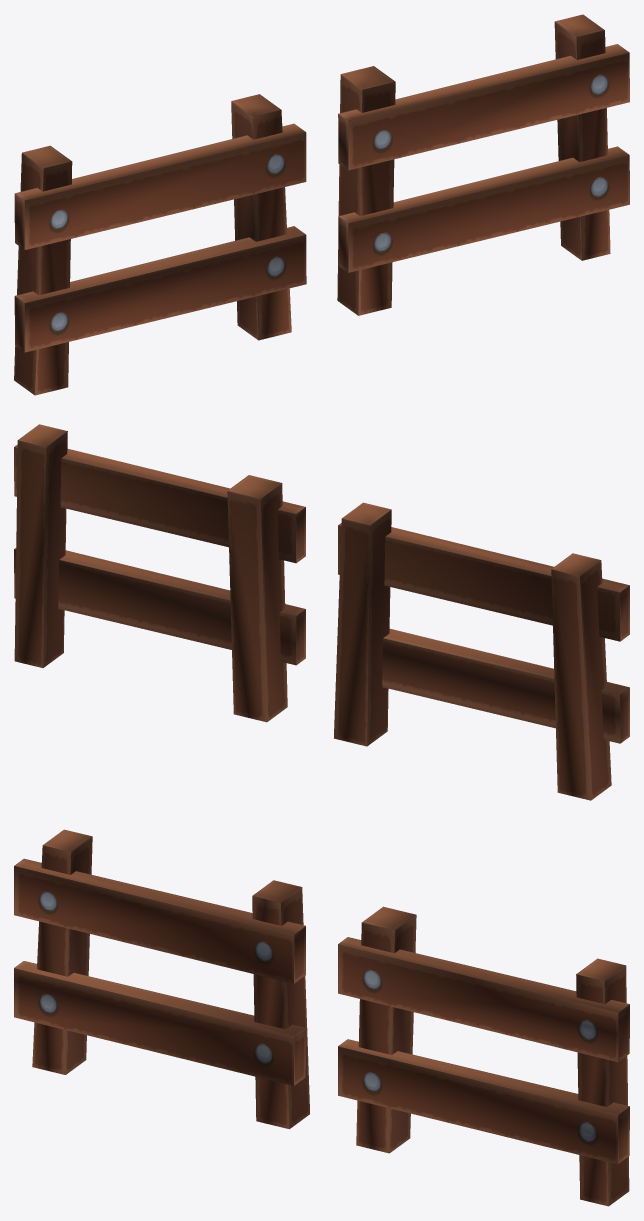
The model's file is Barriers.fbx.
The picture shows the model from 3 angles, top to bottom: view 1: azimuth 30°, elevation 25°; view 2: azimuth 150°, elevation 25°; view 3: azimuth 330°, elevation 25°; orthographic projection.
Parts seen in each view (by area): view 1: Barriers; view 2: Barriers; view 3: Barriers.
Boxes of the visible parts, box(x1,y1,x2,y2) form: Barriers: box(14, 14, 629, 395); Barriers: box(14, 424, 629, 800); Barriers: box(14, 829, 629, 1206).
Bounding box in the file's own units: 132 × 46.55 × 10.65.
